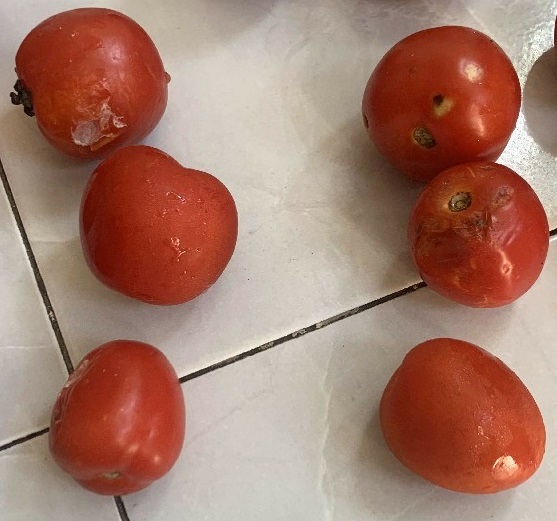NG: (9, 6, 178, 162), (44, 330, 189, 501), (357, 25, 524, 165), (404, 161, 554, 308)
OK: (374, 335, 553, 499), (78, 143, 241, 313)
